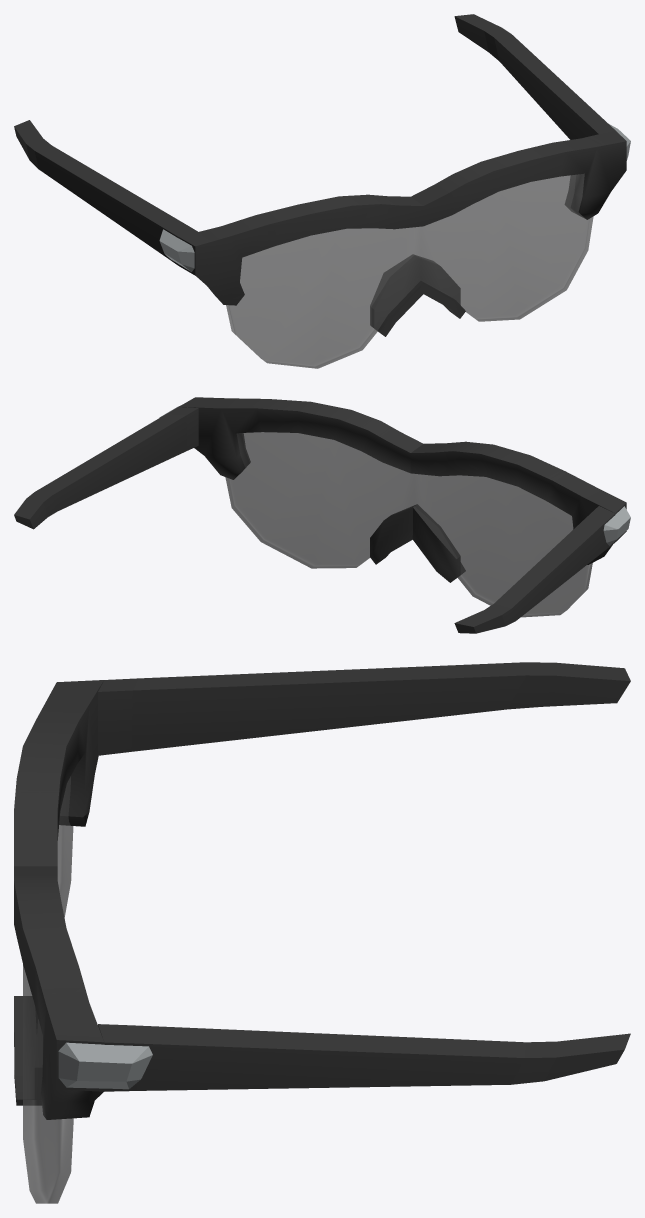
File: Eyewear_4.fbx
3 views of the same model, one above another, from view 1: azimuth 30°, elevation 25°; view 2: azimuth 150°, elevation 25°; view 3: azimuth 270°, elevation 25° (orthographic). The views are drawn at different scales.
Parts seen in each view (by area): view 1: Eyewear_4; view 2: Eyewear_4; view 3: Eyewear_4.
Boxes of the visible parts, <box> form: Eyewear_4: <box>14,14,630,368</box>; Eyewear_4: <box>14,397,630,633</box>; Eyewear_4: <box>14,662,630,1203</box>.
Size of the model in its own units: 53.48 by 16.97 by 35.22.
